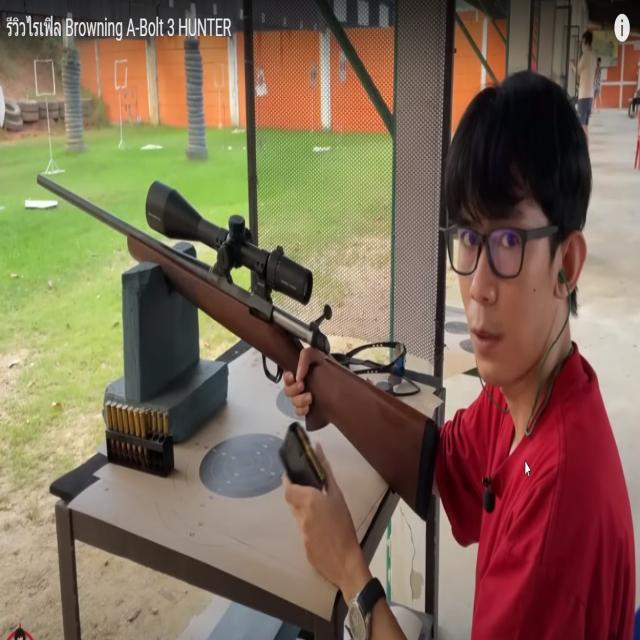rifle: (31, 151, 448, 550)
